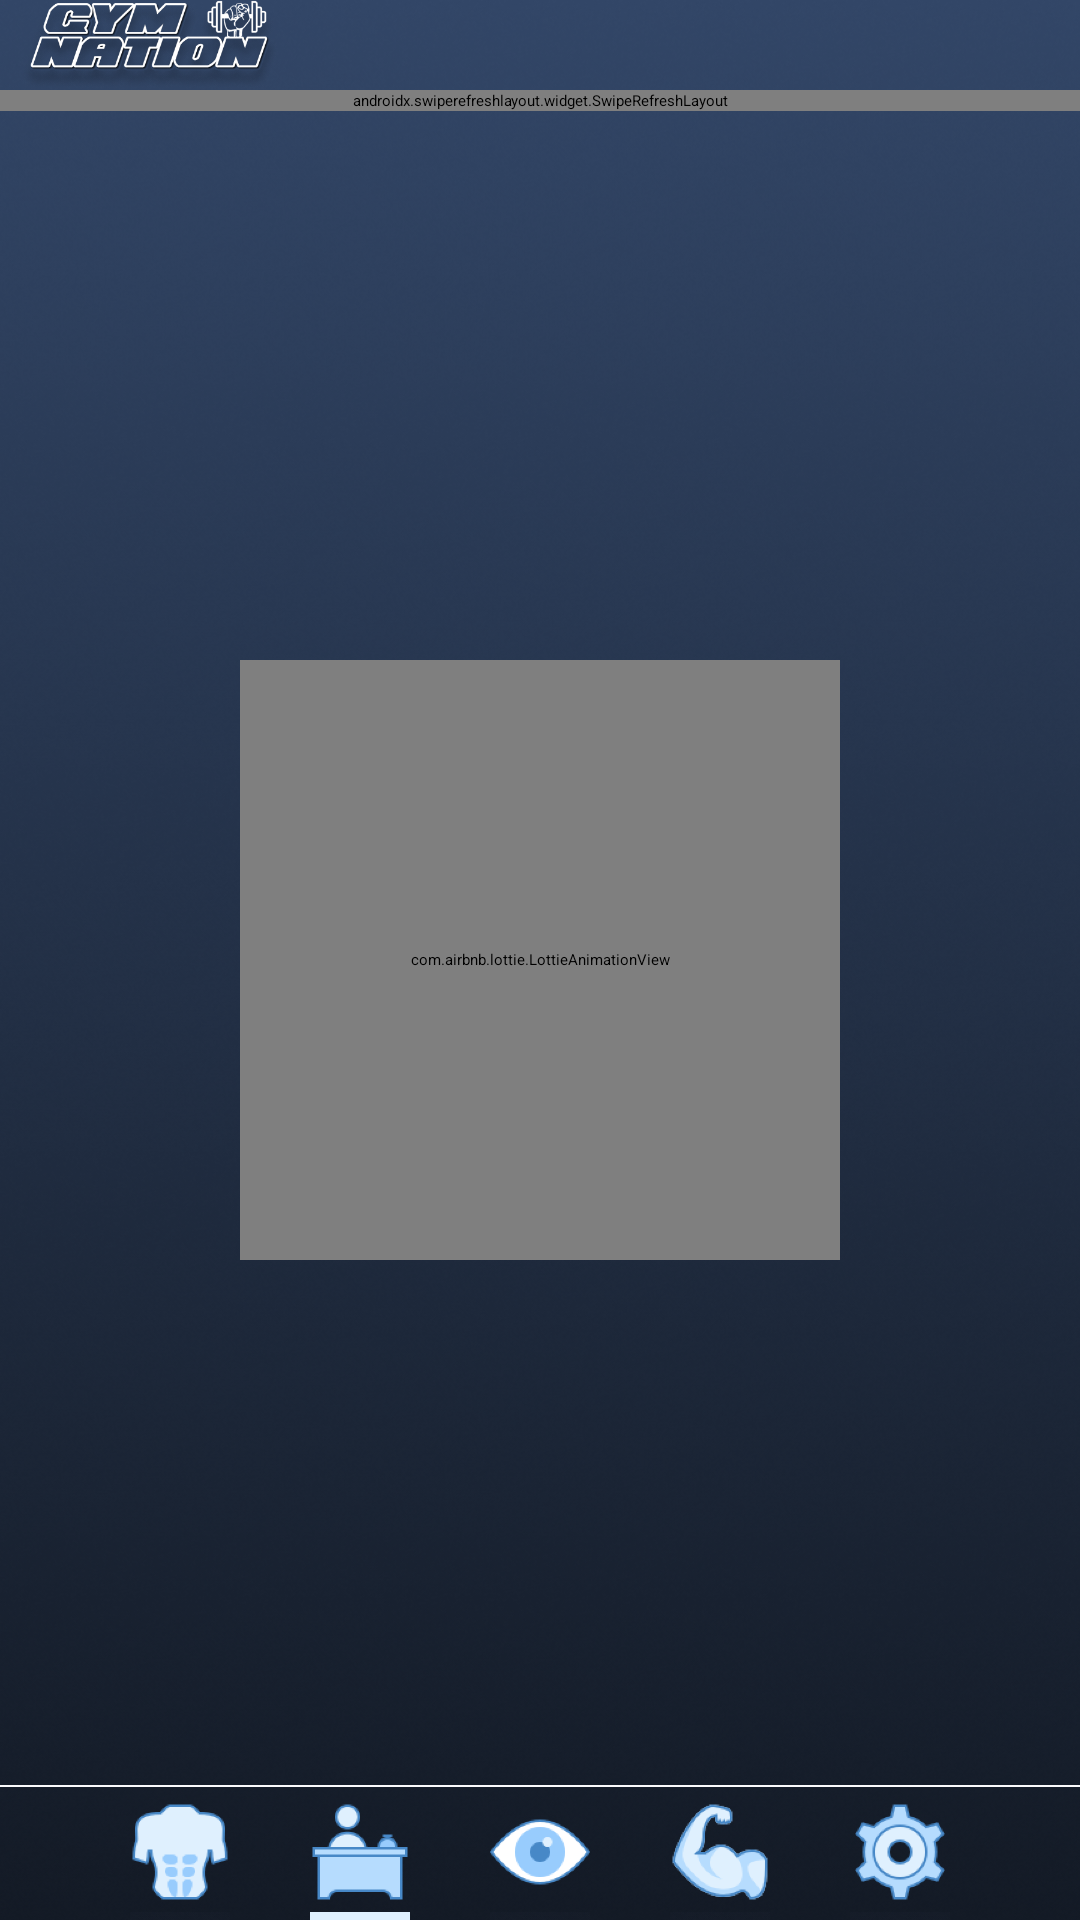

Named icons in this screenshot (1080x1920) and their bounding boxes, (left=x1, top=y1, right=x2, bottom=y2):
setting not: (left=855, top=1804, right=945, bottom=1900)
